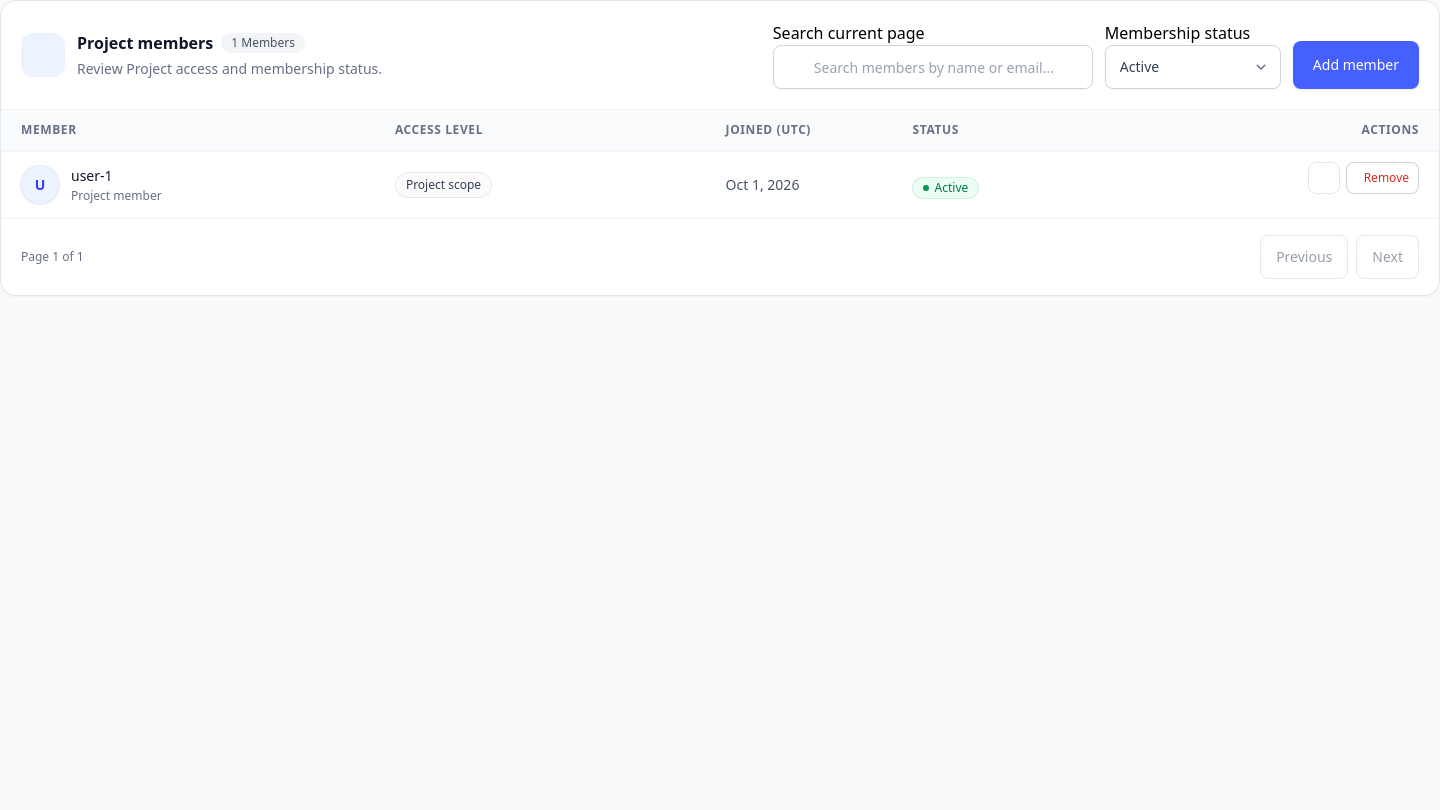
Scenario: prevents duplicate remove requests while waiting for 204
The image size is (1440, 810).
Click the button "Remove" at (1382, 178), box [1346,162,1419,194]
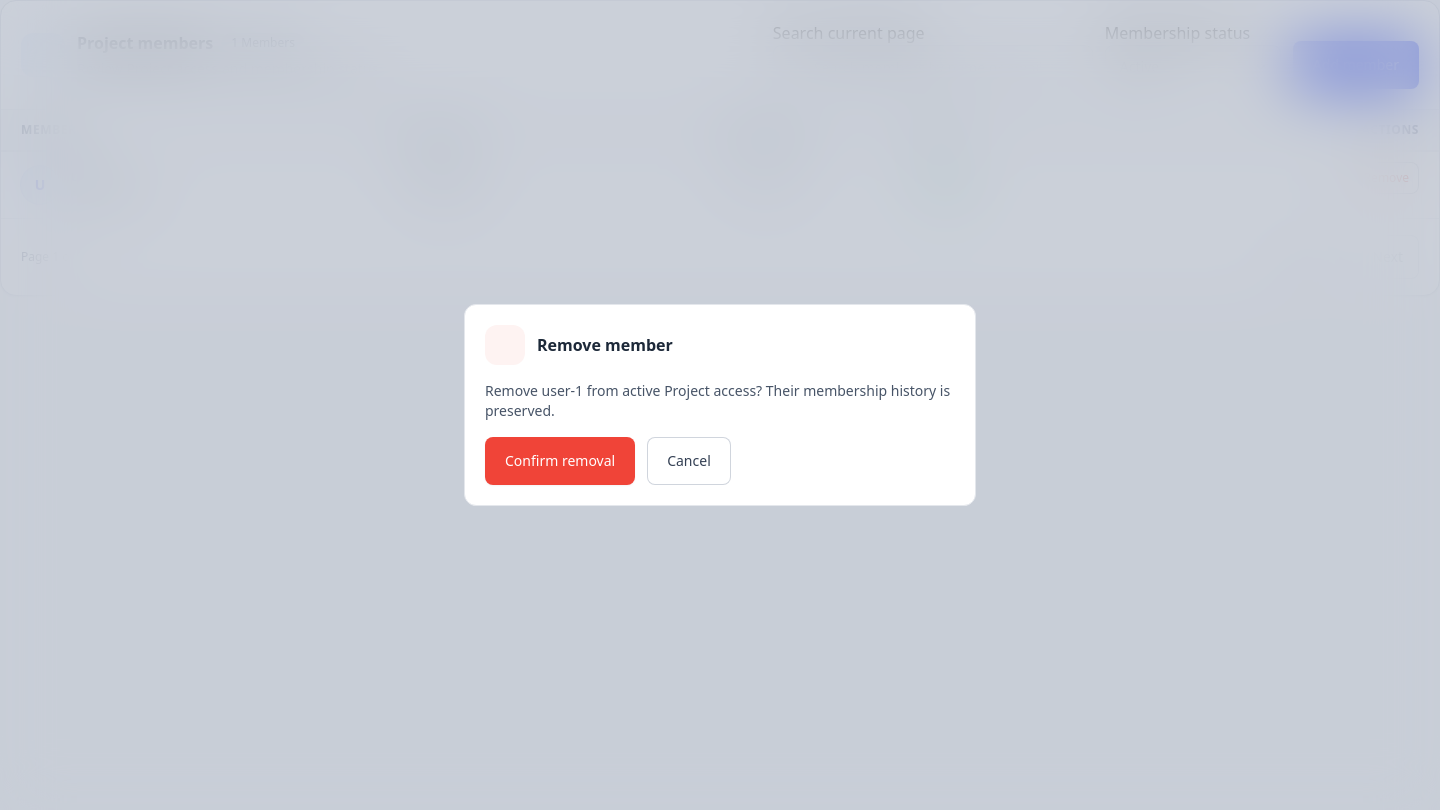
Click the button "Confirm removal" at (560, 461), box [485,437,635,485]
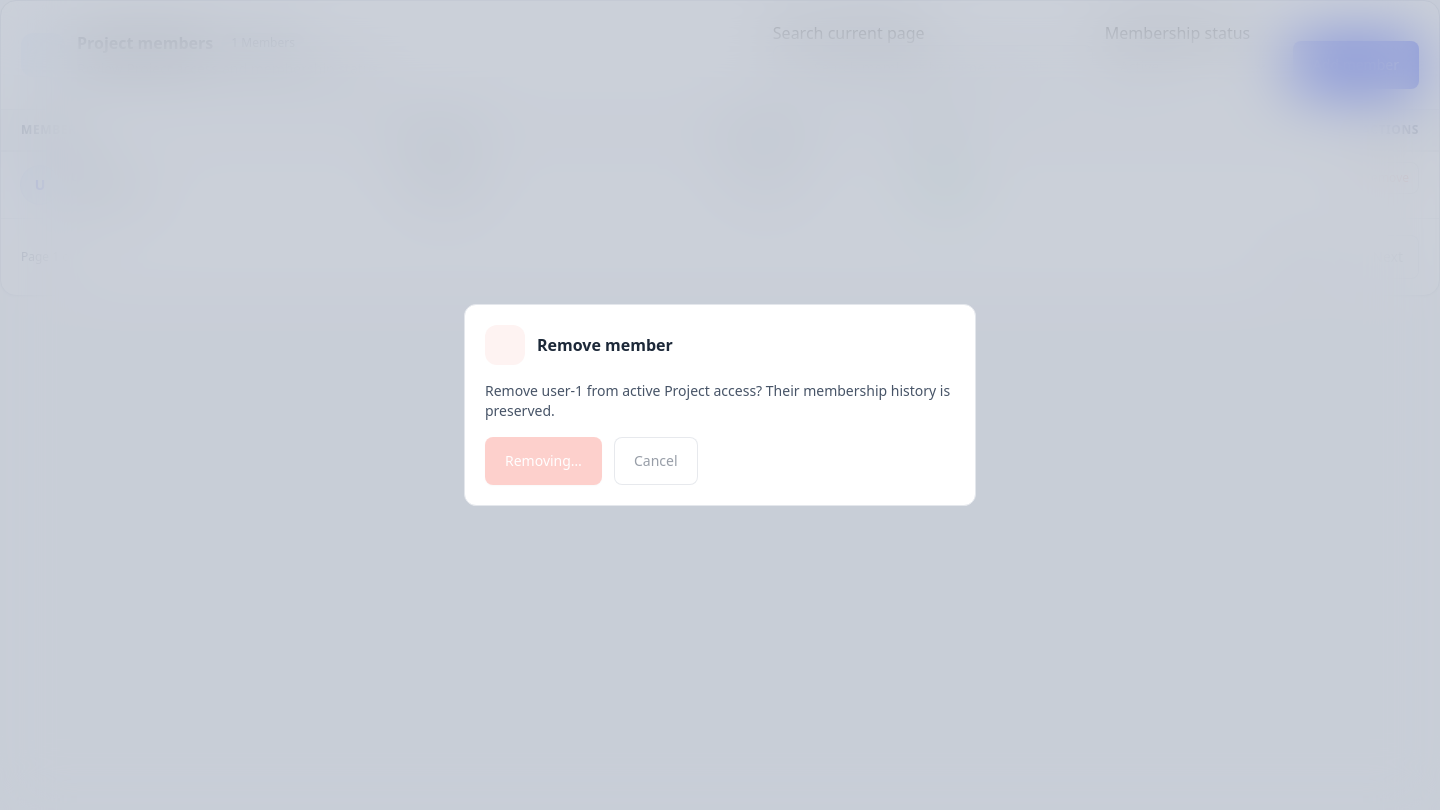
Result: the button "Removing…" is disabled
Click the button "Removing…" at (544, 461), box [485,437,602,485]
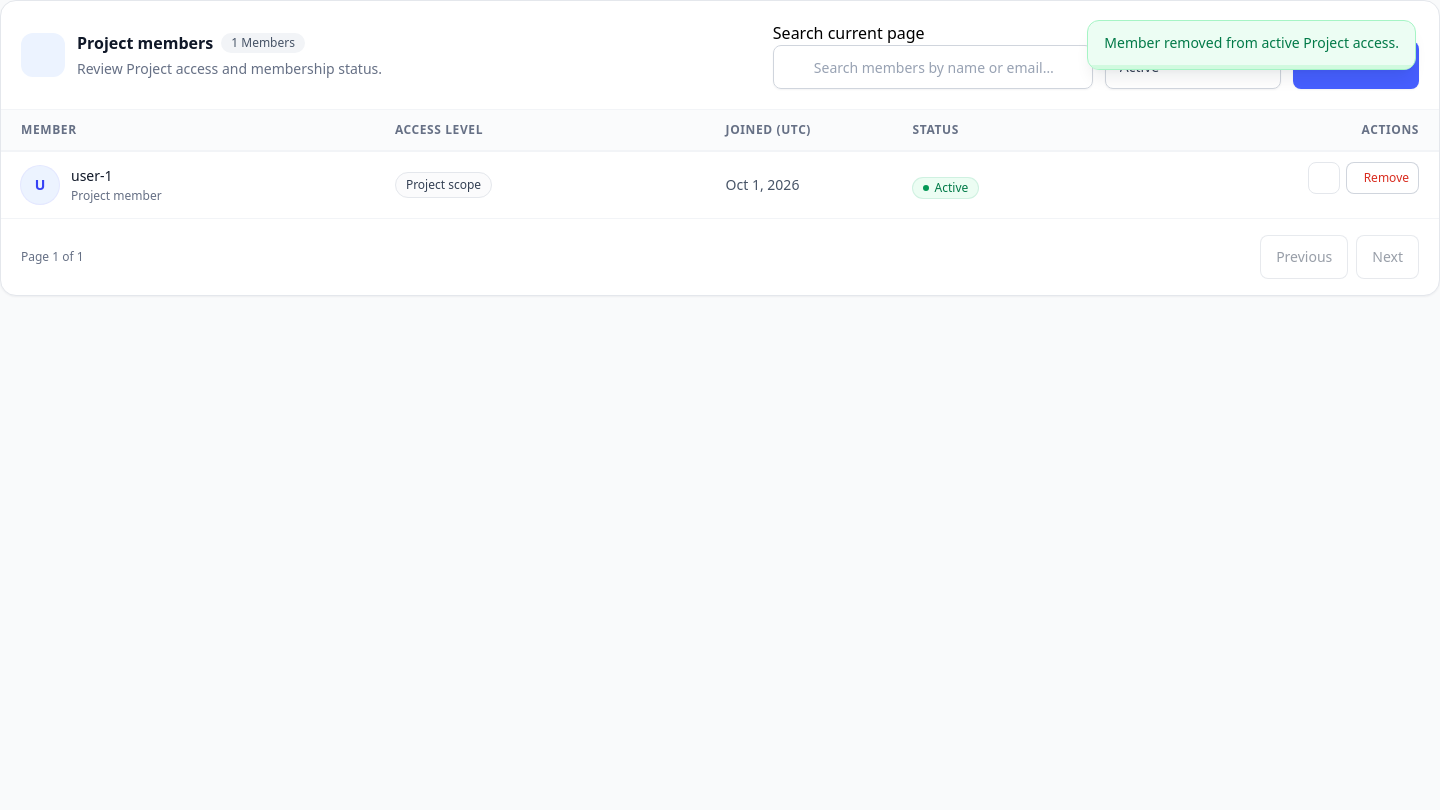
Result: the text "Member removed from active Project access." is shown at [1104,33,1399,52]
